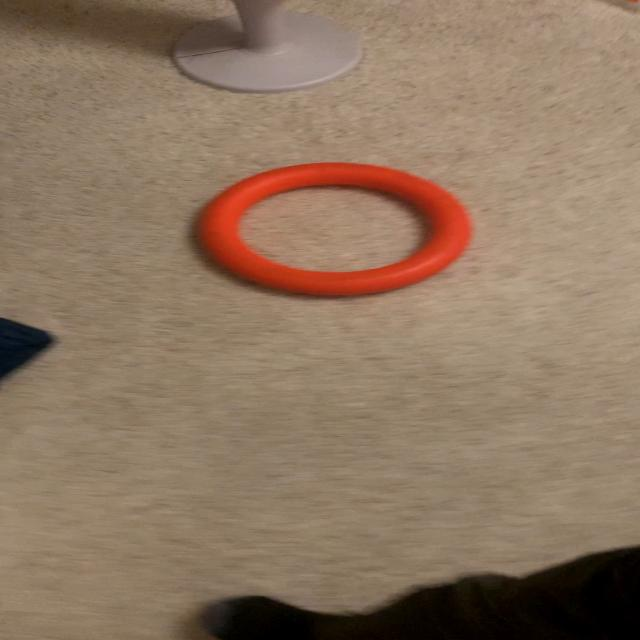notes: (191, 162, 473, 298)
